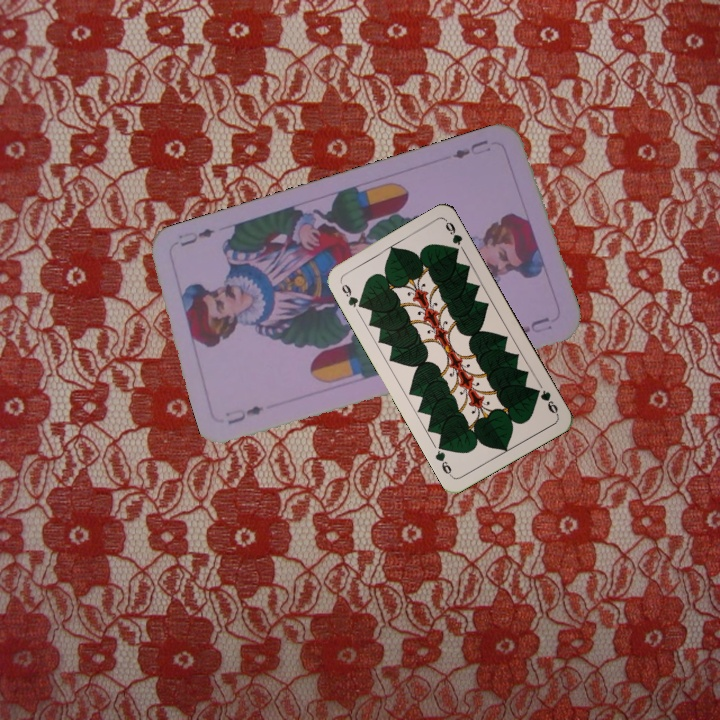EU: (223, 401, 267, 428), (449, 136, 493, 162)
G9: (530, 384, 561, 418), (336, 277, 366, 311)
